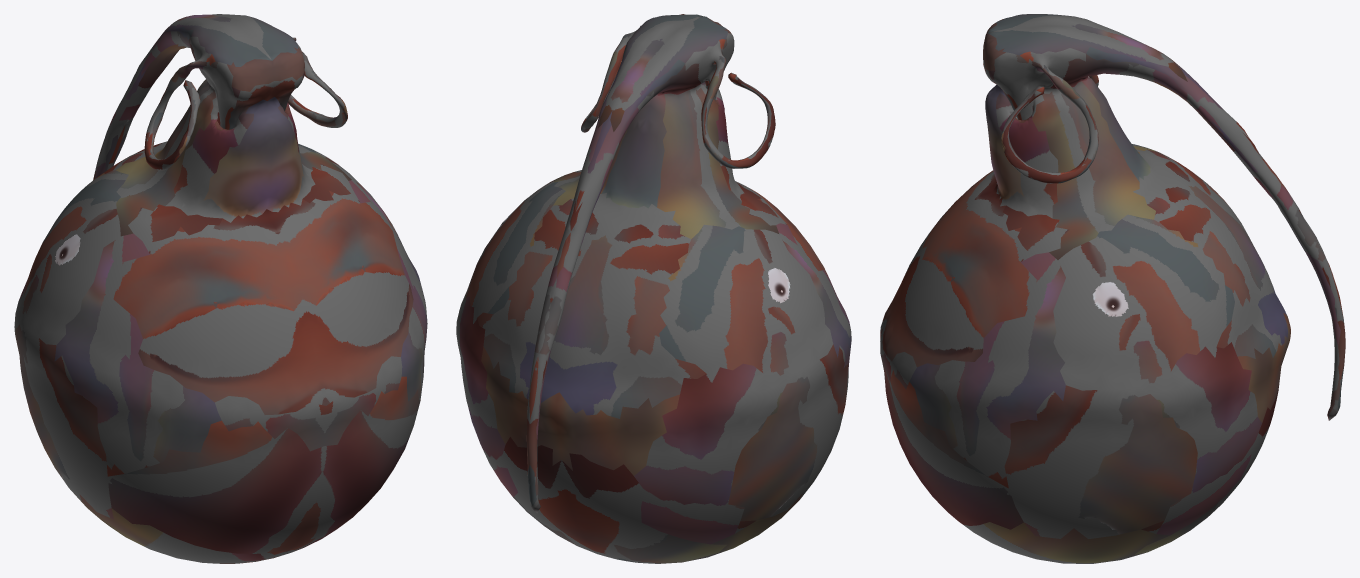
File: grenade.obj
3 views of the same model, side by side, from view 1: azimuth 30°, elevation 25°; view 2: azimuth 150°, elevation 25°; view 3: azimuth 270°, elevation 25° (orthographic). The views are drawn at different scales.
Parts seen in each view (by area): view 1: grenade; view 2: grenade; view 3: grenade.
Part boxes in pixels (<box>): grenade: <box>14,14,427,563</box>; grenade: <box>456,14,851,563</box>; grenade: <box>880,14,1345,563</box>.
Bounding box in the file's own units: 2.1 × 2.95 × 2.38.
